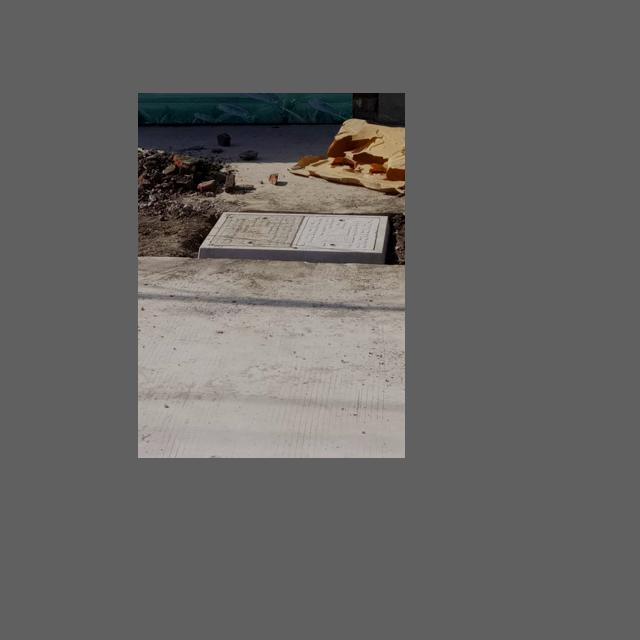good: (201, 211, 390, 253)
